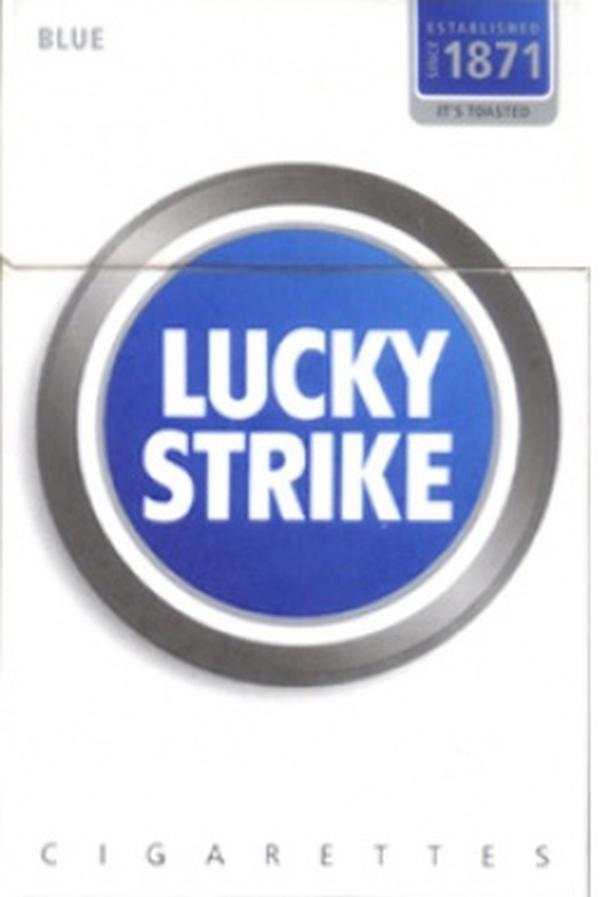lucky_strike_blue: (4, 1, 594, 897)
